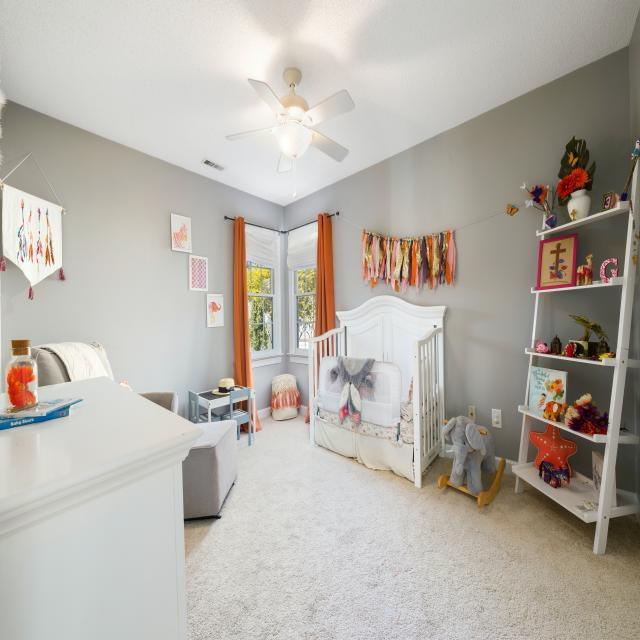floor: (184, 414, 640, 640)
wall: (0, 99, 284, 421), (284, 46, 632, 238), (330, 203, 544, 477), (252, 233, 287, 420), (540, 285, 623, 354), (550, 211, 629, 281), (538, 356, 615, 418), (284, 232, 309, 416), (559, 428, 606, 480), (619, 367, 635, 435), (615, 443, 636, 493), (526, 440, 539, 463), (530, 417, 547, 432)
